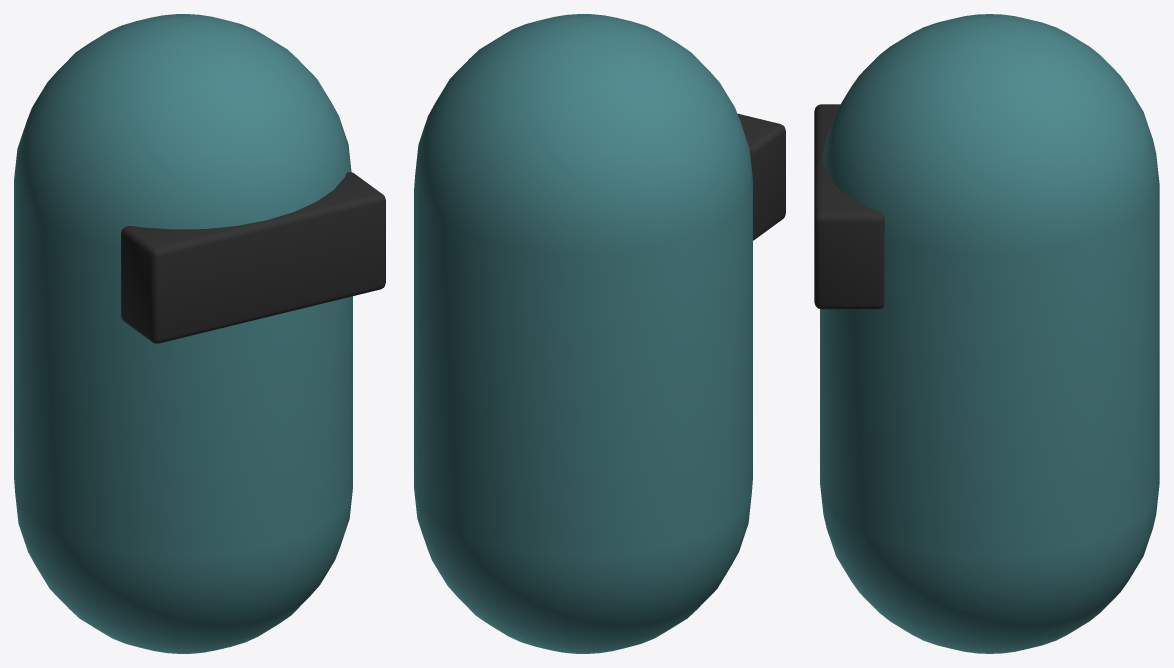
The model's file is test_player.fbx.
The picture shows the model from 3 angles, left to right: view 1: azimuth 30°, elevation 25°; view 2: azimuth 150°, elevation 25°; view 3: azimuth 270°, elevation 25°; orthographic projection.
Parts seen in each view (by area): view 1: 球; view 2: 球; view 3: 球.
Part boxes in pixels (box(x1,y1,x2,y2)): 球: box(14, 14, 385, 653); 球: box(414, 14, 785, 653); 球: box(814, 14, 1159, 653).
Bounding box in the file's own units: 2 × 3.96 × 2.03.
